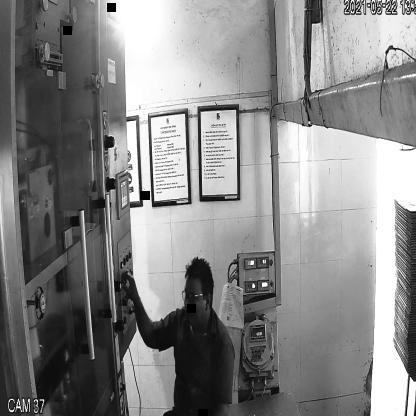goggles: (180, 285, 210, 308)
